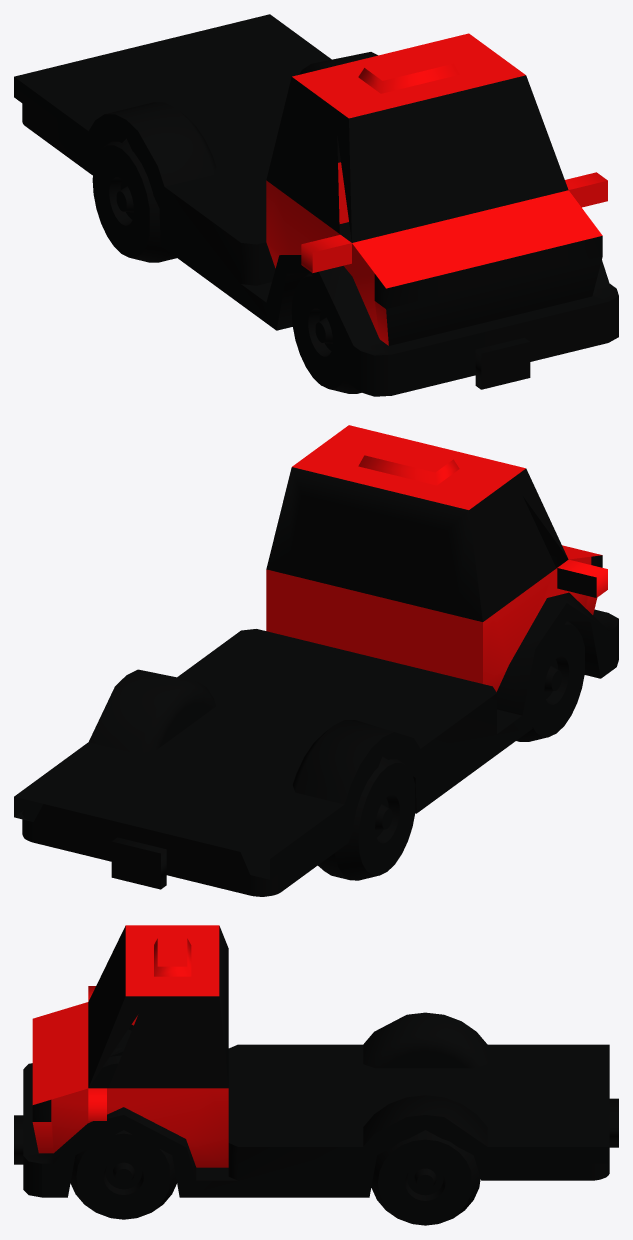
File: delivery-flat.glb
The picture shows the model from 3 angles, top to bottom: view 1: azimuth 30°, elevation 25°; view 2: azimuth 150°, elevation 25°; view 3: azimuth 270°, elevation 25°; orthographic projection. The views are drawn at different scales.
Visible parts, largest first — view 1: body, wheel-back-right, wheel-front-right; view 2: body, wheel-back-right, wheel-front-right; view 3: body, wheel-back-left, wheel-front-left, wheel-front-right.
Boxes of the visible parts, x1=… form: body: x1=14, y1=14, x2=618, y2=396; wheel-back-right: x1=92, y1=140, x2=176, y2=262; wheel-front-right: x1=291, y1=273, x2=361, y2=393; body: x1=14, y1=425, x2=618, y2=896; wheel-back-right: x1=318, y1=757, x2=415, y2=880; wheel-front-right: x1=516, y1=621, x2=584, y2=741; body: x1=14, y1=925, x2=618, y2=1197; wheel-back-left: x1=371, y1=1130, x2=480, y2=1225; wheel-front-left: x1=70, y1=1130, x2=176, y2=1219; wheel-front-right: x1=89, y1=1039, x2=127, y2=1088.
Size of the model in its own units: 1.5 by 1.35 by 3.25.
1 material, 1 textured.
